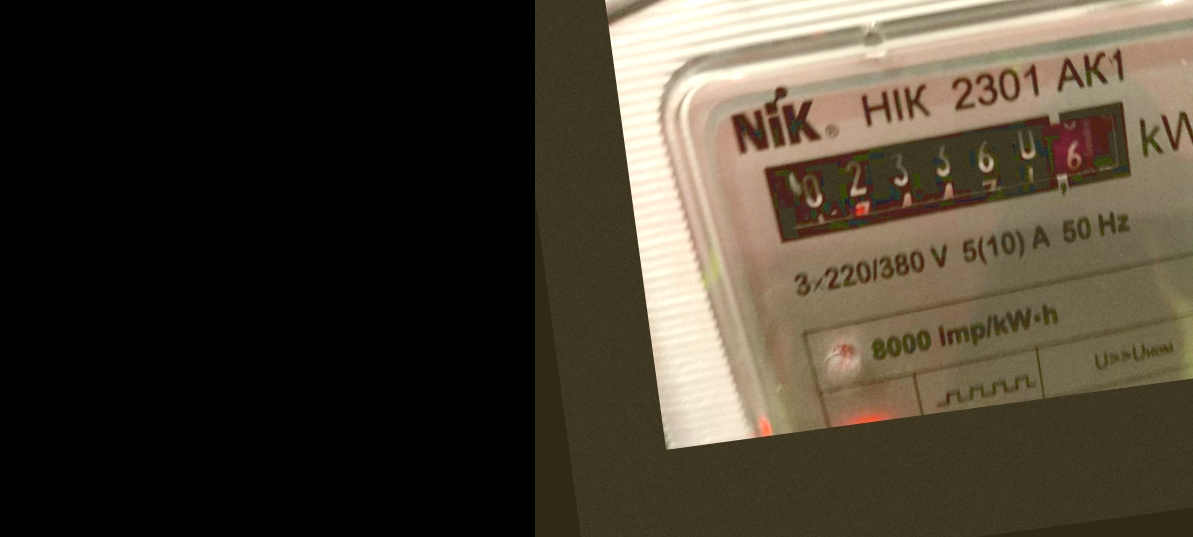0: (797, 167, 827, 211), (1013, 122, 1041, 162)
2: (840, 155, 871, 198)
3: (927, 139, 954, 180), (886, 147, 912, 189)
6: (969, 133, 1000, 177), (1062, 135, 1088, 174)
screen: (738, 85, 1151, 255)
